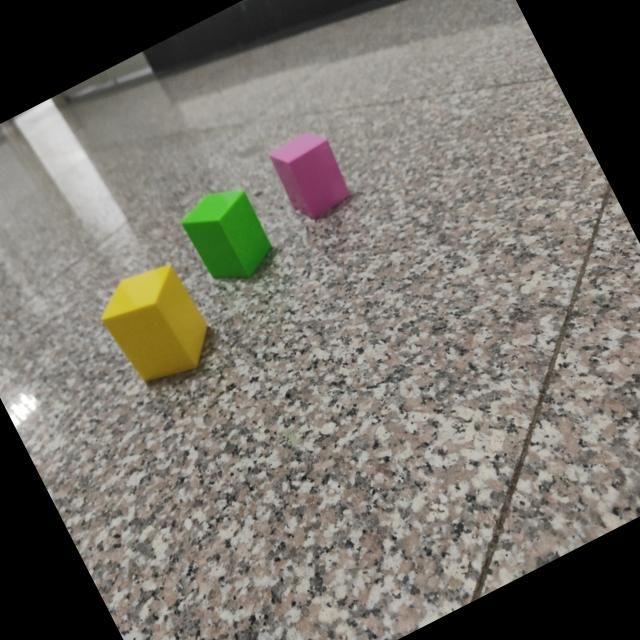green: (182, 190, 275, 282)
pink: (270, 134, 354, 222)
yellow: (100, 264, 210, 385)
